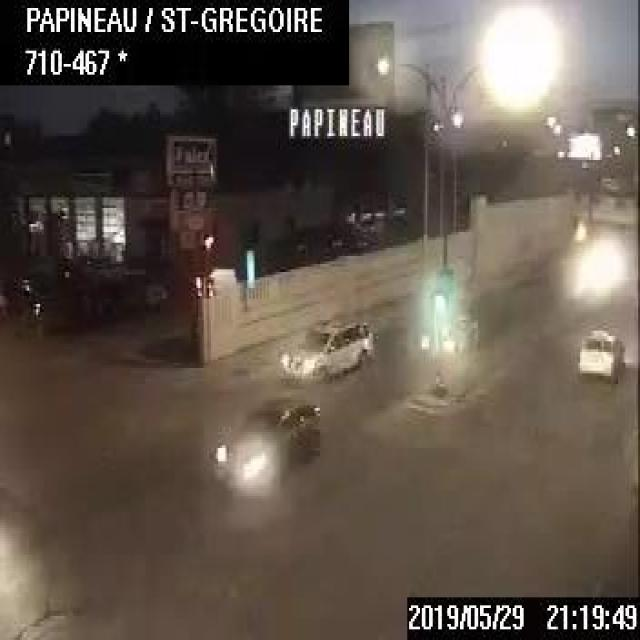vehicle: (209, 392, 320, 493), (274, 309, 376, 384), (415, 312, 482, 355), (574, 325, 624, 376)
